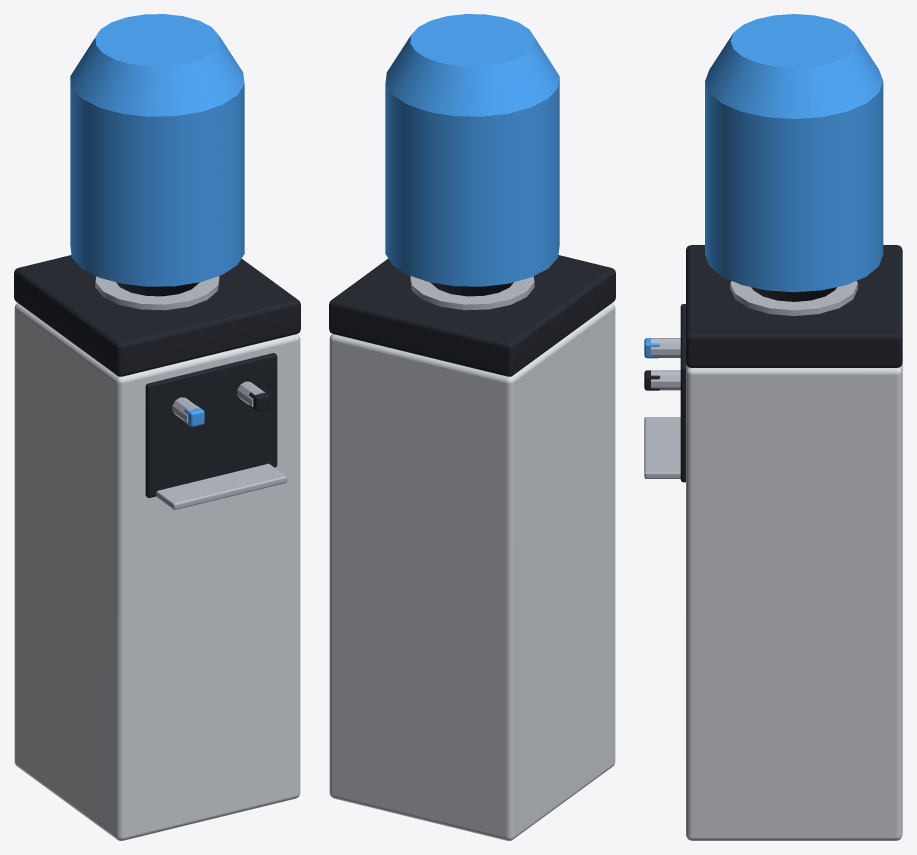
The model's file is WaterCooler.fbx.
3 views of the same model, side by side, from view 1: azimuth 30°, elevation 25°; view 2: azimuth 150°, elevation 25°; view 3: azimuth 270°, elevation 25° (orthographic).
Visible parts, largest first — view 1: WaterCooler; view 2: WaterCooler; view 3: WaterCooler.
Boxes of the visible parts, left/top/right/bottom form: WaterCooler: left=14, top=14, right=300, bottom=840; WaterCooler: left=329, top=14, right=615, bottom=840; WaterCooler: left=644, top=14, right=902, bottom=840.
Size of the model in its own units: 0.034 by 0.131 by 0.0405.
